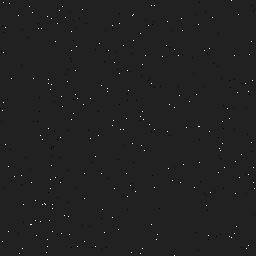m: (0, 31, 256, 225)
